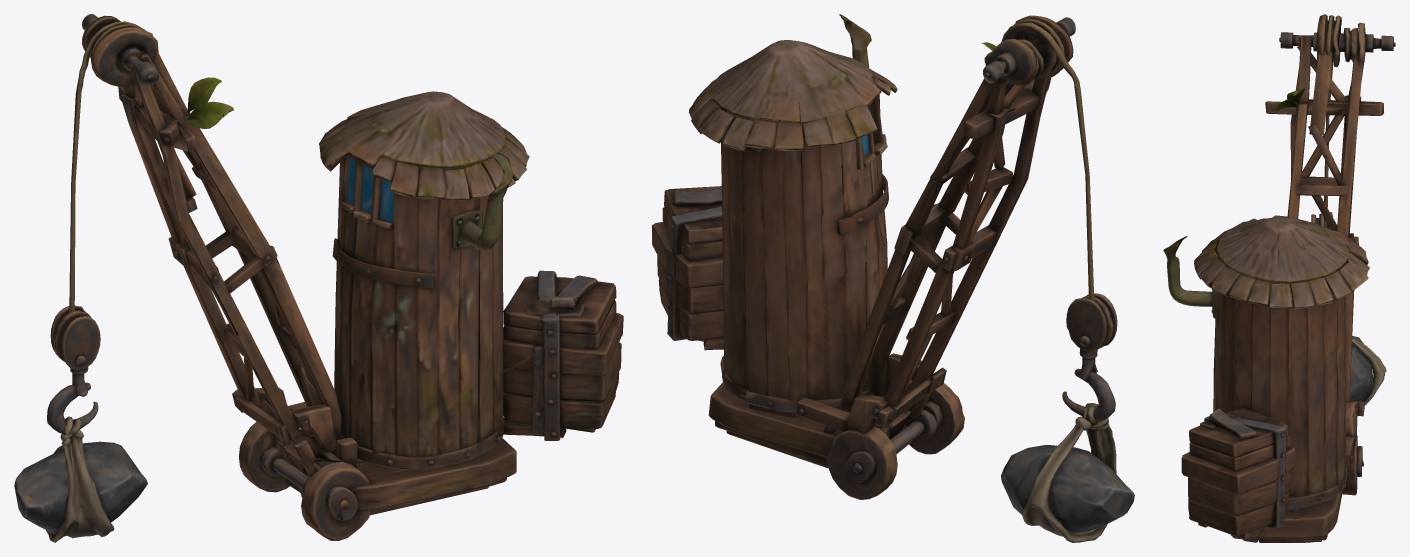
The model's file is meshy.glb.
3 views of the same model, side by side, from view 1: azimuth 30°, elevation 25°; view 2: azimuth 150°, elevation 25°; view 3: azimuth 270°, elevation 25° (orthographic). The views are drawn at different scales.
Parts seen in each view (by area): view 1: geometry_0; view 2: geometry_0; view 3: geometry_0.
Part boxes in pixels (box(x1,y1,x2,y2)): geometry_0: box(14, 14, 623, 542); geometry_0: box(652, 14, 1134, 542); geometry_0: box(1163, 14, 1395, 542).
Bounding box in the file's own units: 0.9517 × 0.8608 × 0.4404.
Materials: 1 (1 with a texture image).
